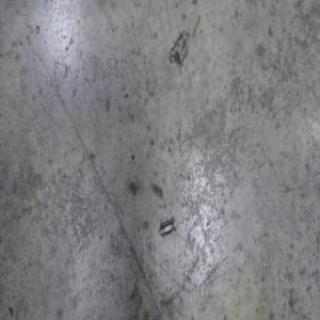Bolttrack_idkeyframe: (158, 215, 175, 238)
